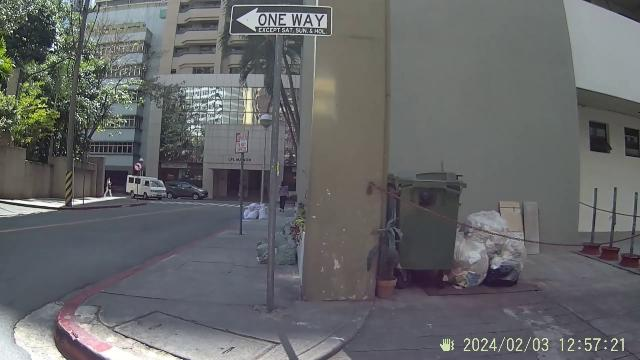garbage: (384, 160, 468, 296)
lamp_post: (259, 111, 273, 191)
potted_plant: (375, 222, 399, 304)
street_sign: (228, 3, 334, 309), (234, 127, 250, 236), (132, 160, 144, 202)
utility_post: (64, 54, 78, 206)
